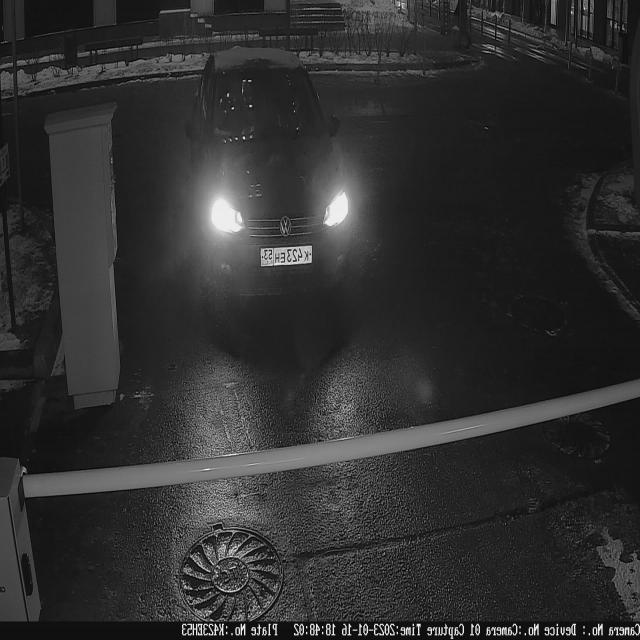car-plate-numbers: (257, 239, 318, 274)
